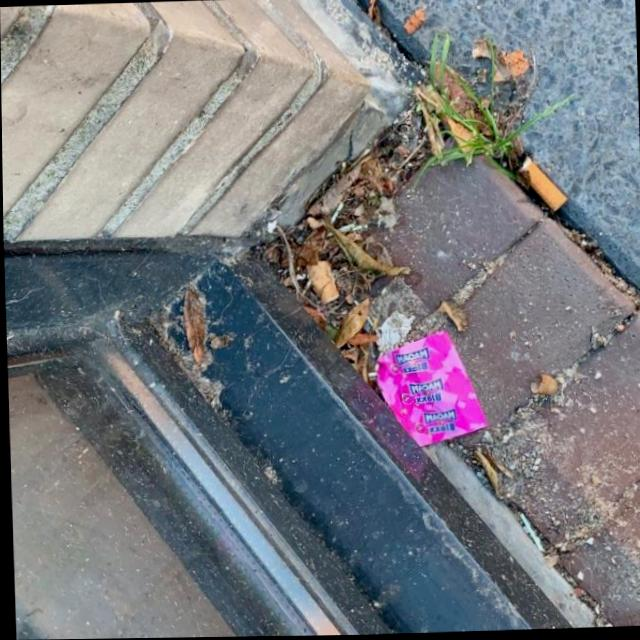Plastic: (370, 326, 489, 449)
